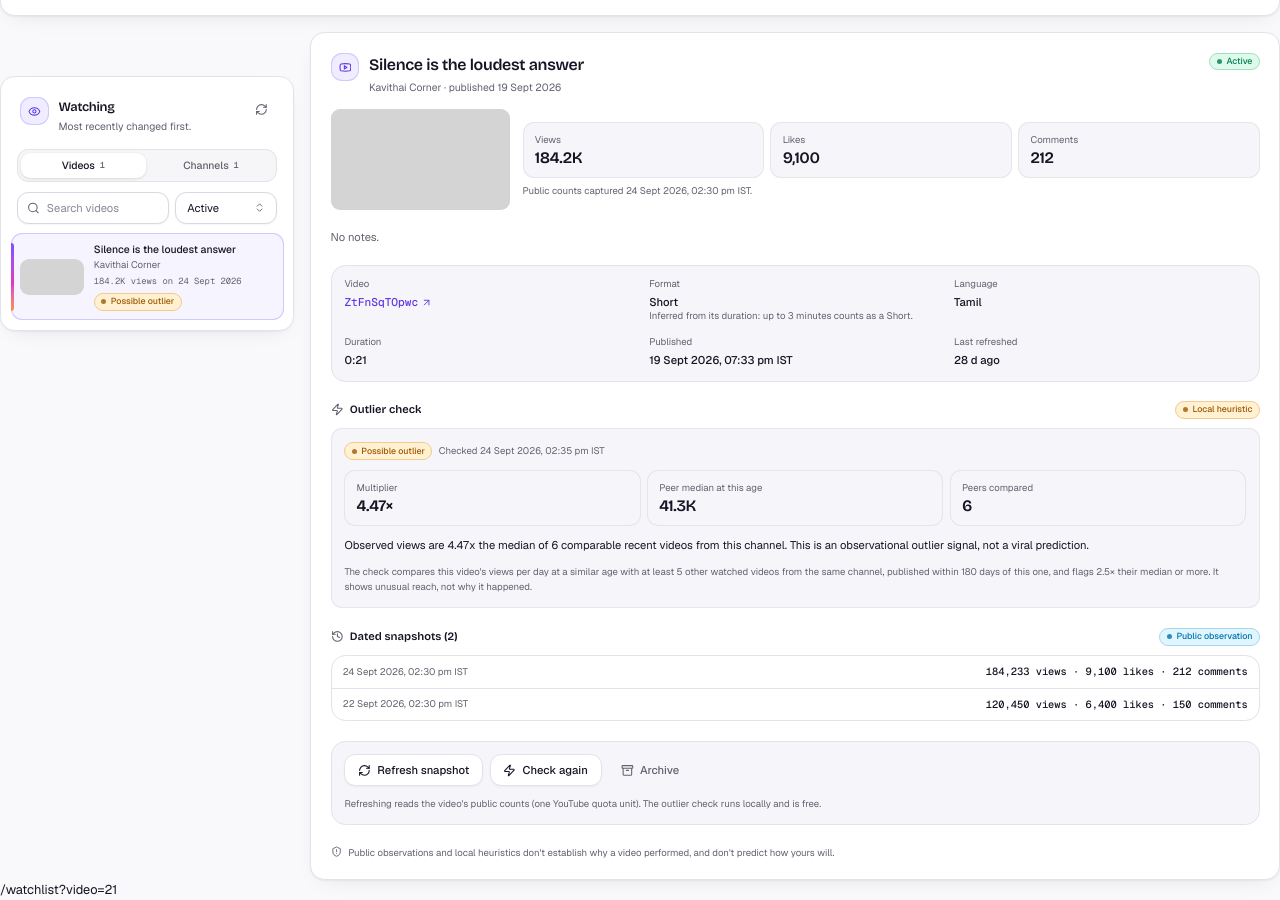
WatchlistPage › reports a failed refresh
(page scrolled)
Click the button "Refresh snapshot". click: (414, 770)
box: [344,754,483,786]
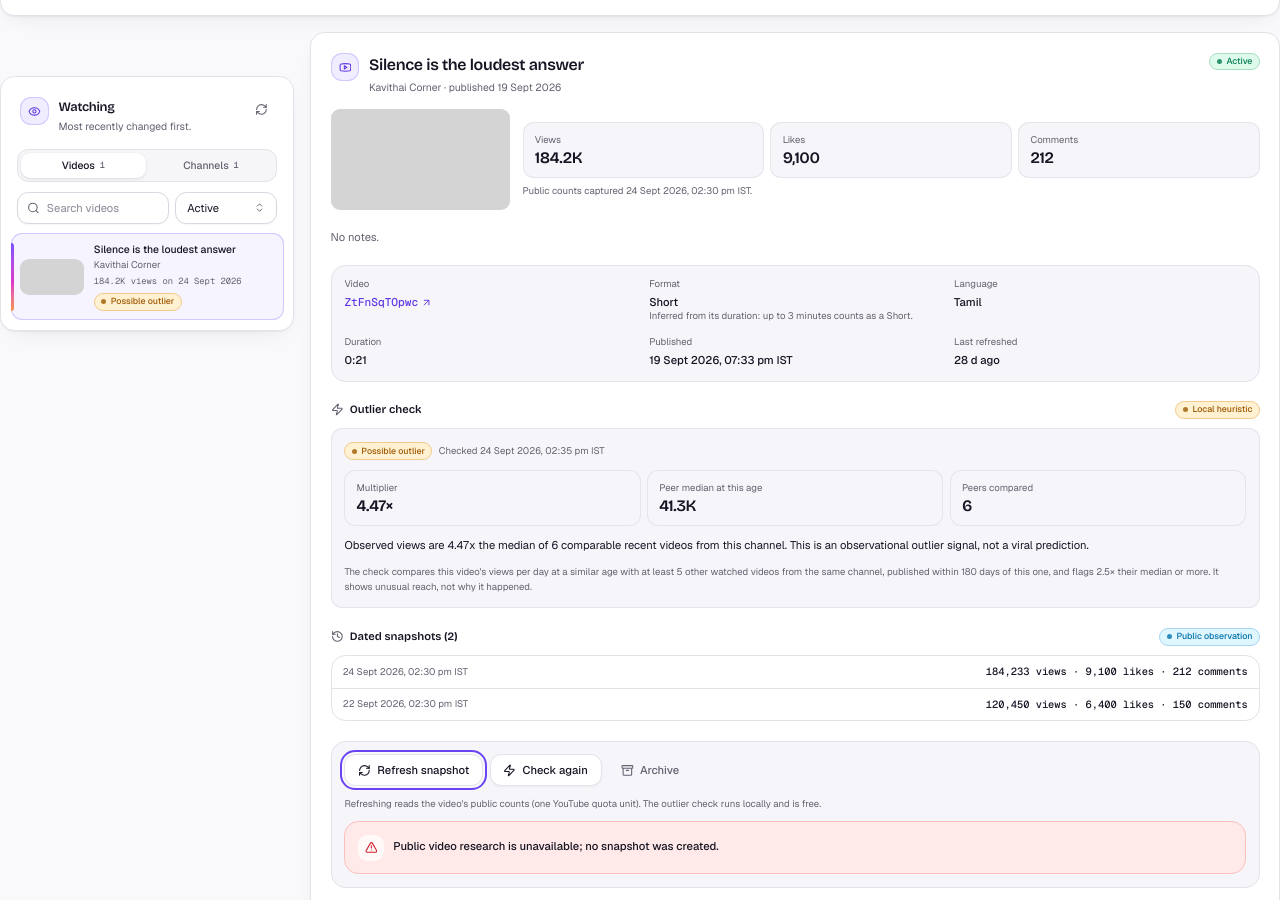
Expected: the text "Public video research is unavailable; no snapshot was created." is shown, [393,838,719,854]
